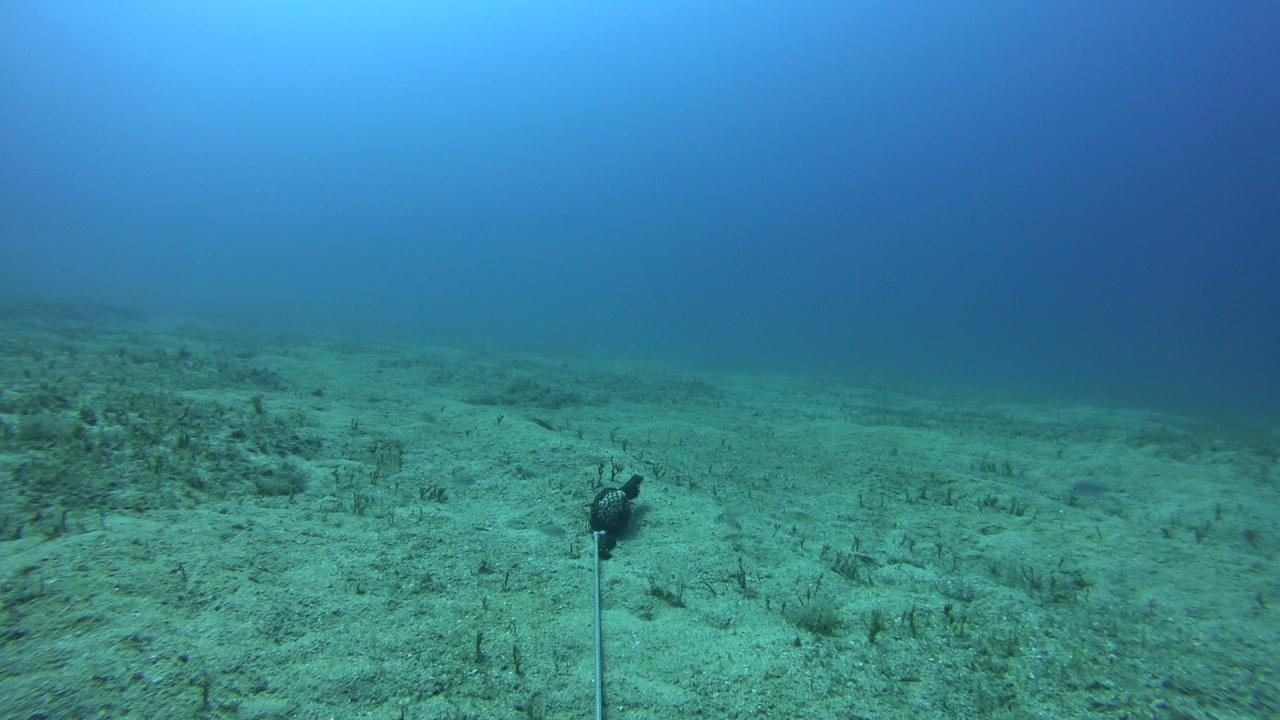pagellus: (1066, 477, 1126, 501)
